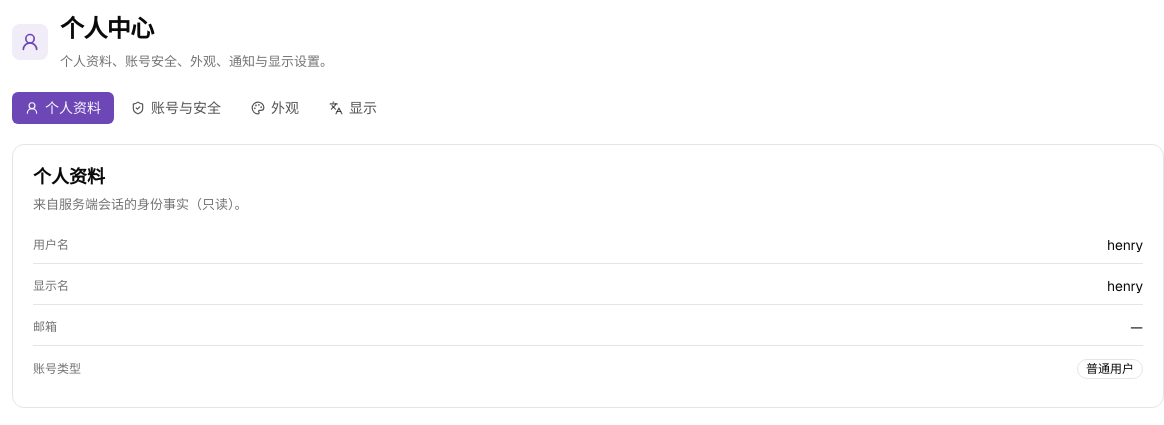
profile security tab password change (§18.52) › shows the identity-source note instead of the form for an oidc account
Click the tab with test id "profile-tab-security" at (176, 108), box [118,92,234,124]
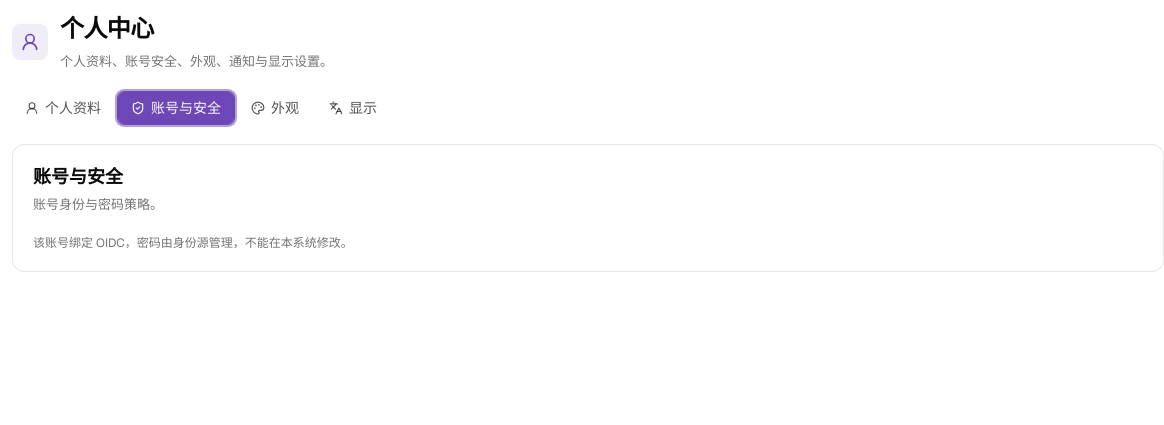
Check: the text with test id "profile-security-external-note" shows "OIDC", box [33,235,353,251]
